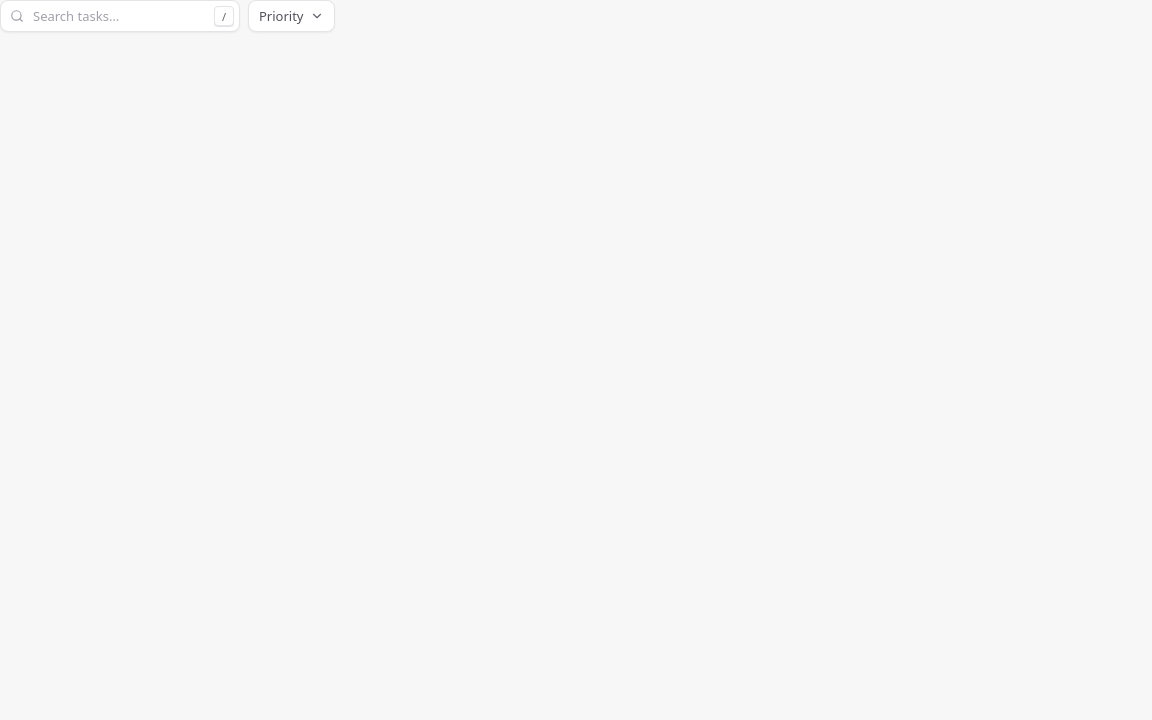
FilterBar › adds a priority from the popover, shows a chip and removes it again
This screenshot has width=1152, height=720.
Later steps or results of the test are not shown.
Click the button "Priority".
click(291, 16)  # box [248,0,334,32]
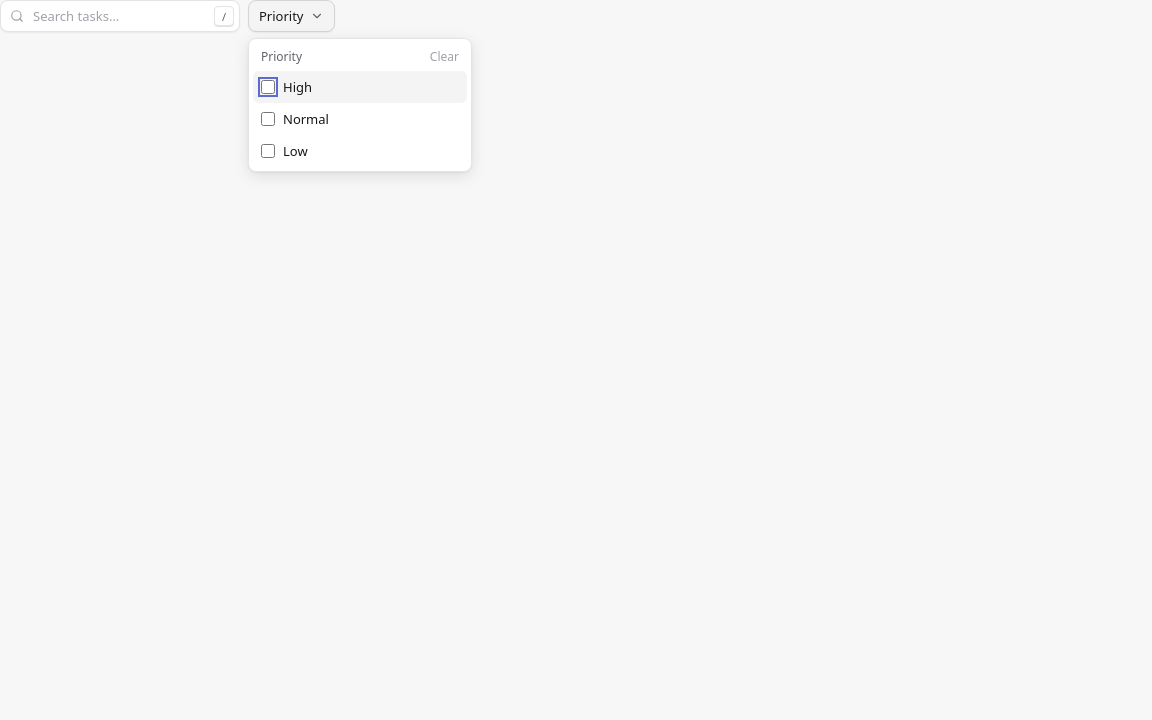
Click the checkbox labelled "High".
click(268, 87)  # box [261,80,275,94]
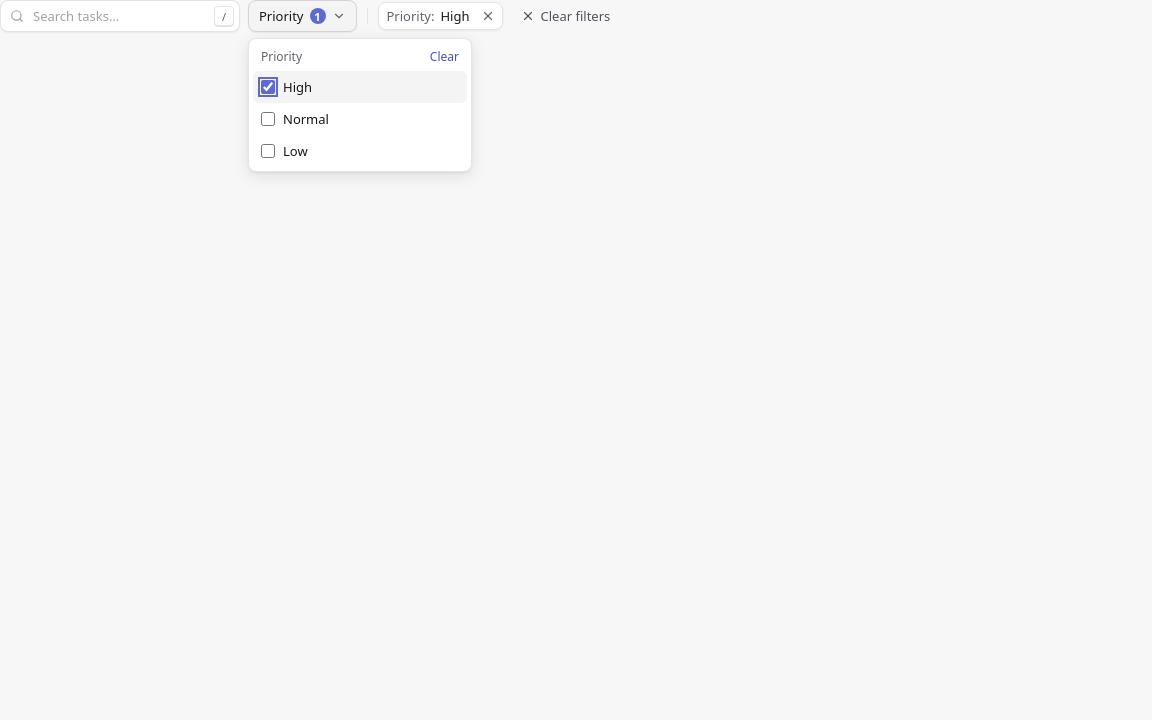
Expected: the button named "Priority, 1 selected" is shown, [248,0,356,32]
Result: the checkbox labelled "High" is checked at [261,80,275,94]
